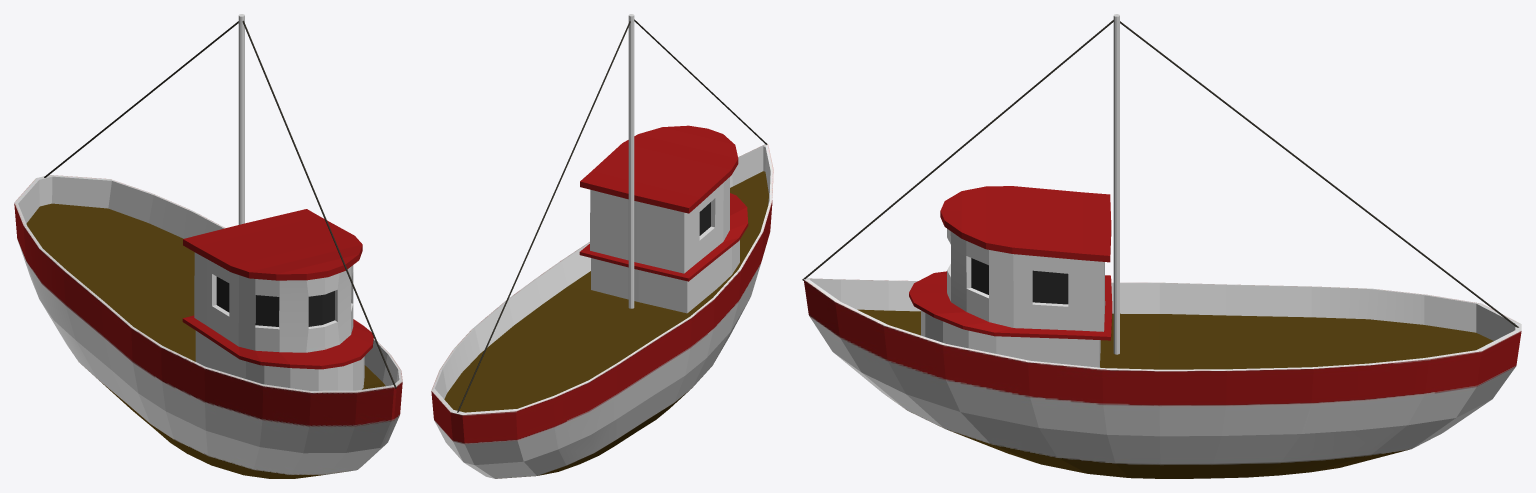
The model's file is low_poly_boat.glb.
3 renders of one model, left to right at view 1: azimuth 30°, elevation 25°; view 2: azimuth 150°, elevation 25°; view 3: azimuth 270°, elevation 25°, orthographic. The views are drawn at different scales.
Visible parts, largest first — view 1: Low_Poly_Boat_03; view 2: Low_Poly_Boat_03; view 3: Low_Poly_Boat_03.
Boxes of the visible parts, x1,y1,x2,y2 form: Low_Poly_Boat_03: [14, 14, 402, 478]; Low_Poly_Boat_03: [431, 14, 773, 478]; Low_Poly_Boat_03: [802, 14, 1521, 478].
Bounding box in the file's own units: 0.5832 × 1.36 × 2.
1 material, 1 textured.
